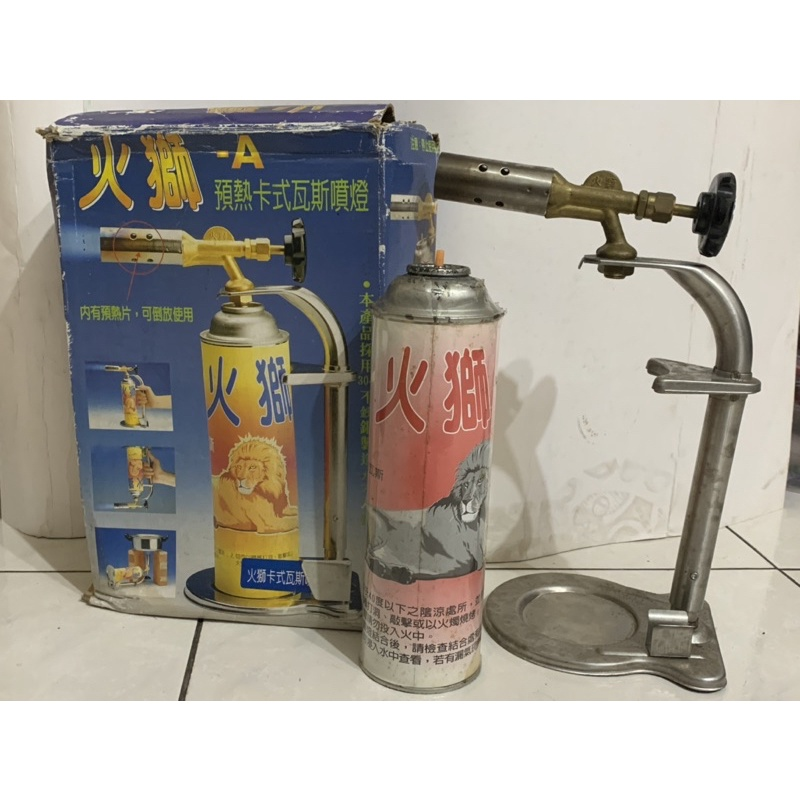gastorch: (98, 224, 360, 616)
